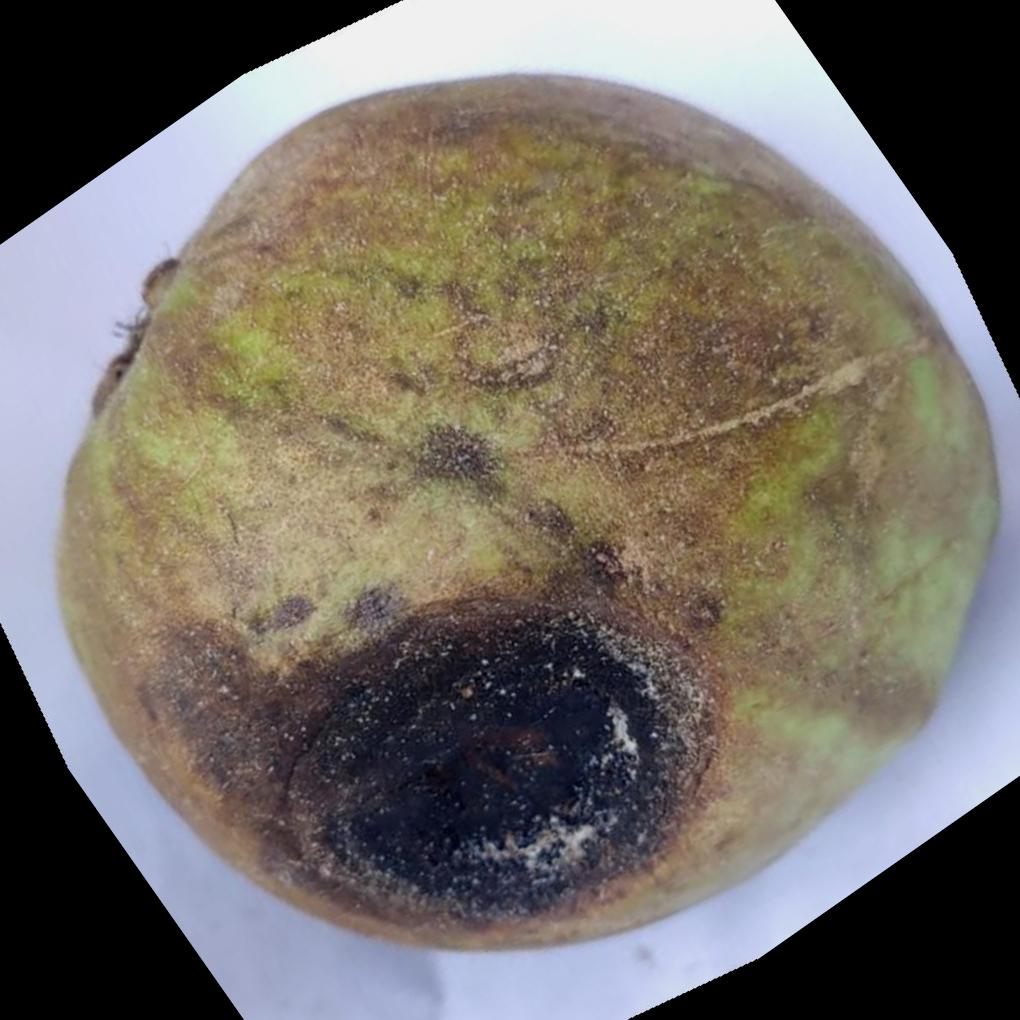FreshOrange: (55, 73, 1004, 959)
